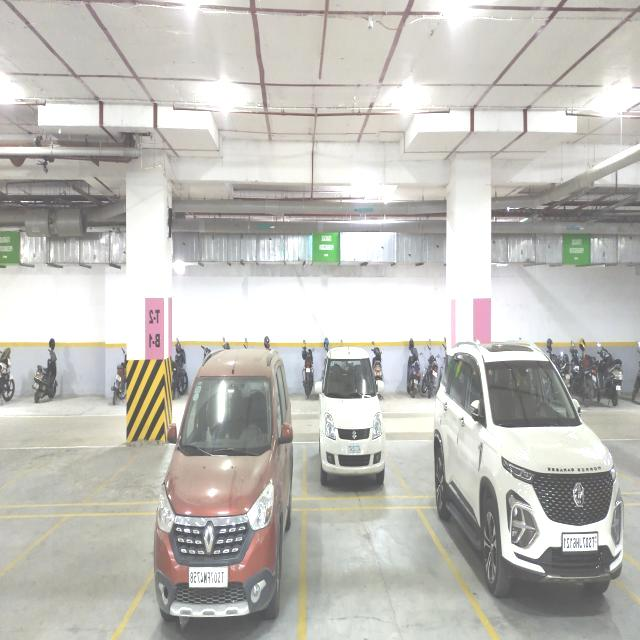car: (492, 434, 596, 612), (162, 496, 284, 634), (324, 382, 379, 497)
free: (322, 498, 418, 640), (49, 505, 142, 632), (95, 426, 156, 506)
